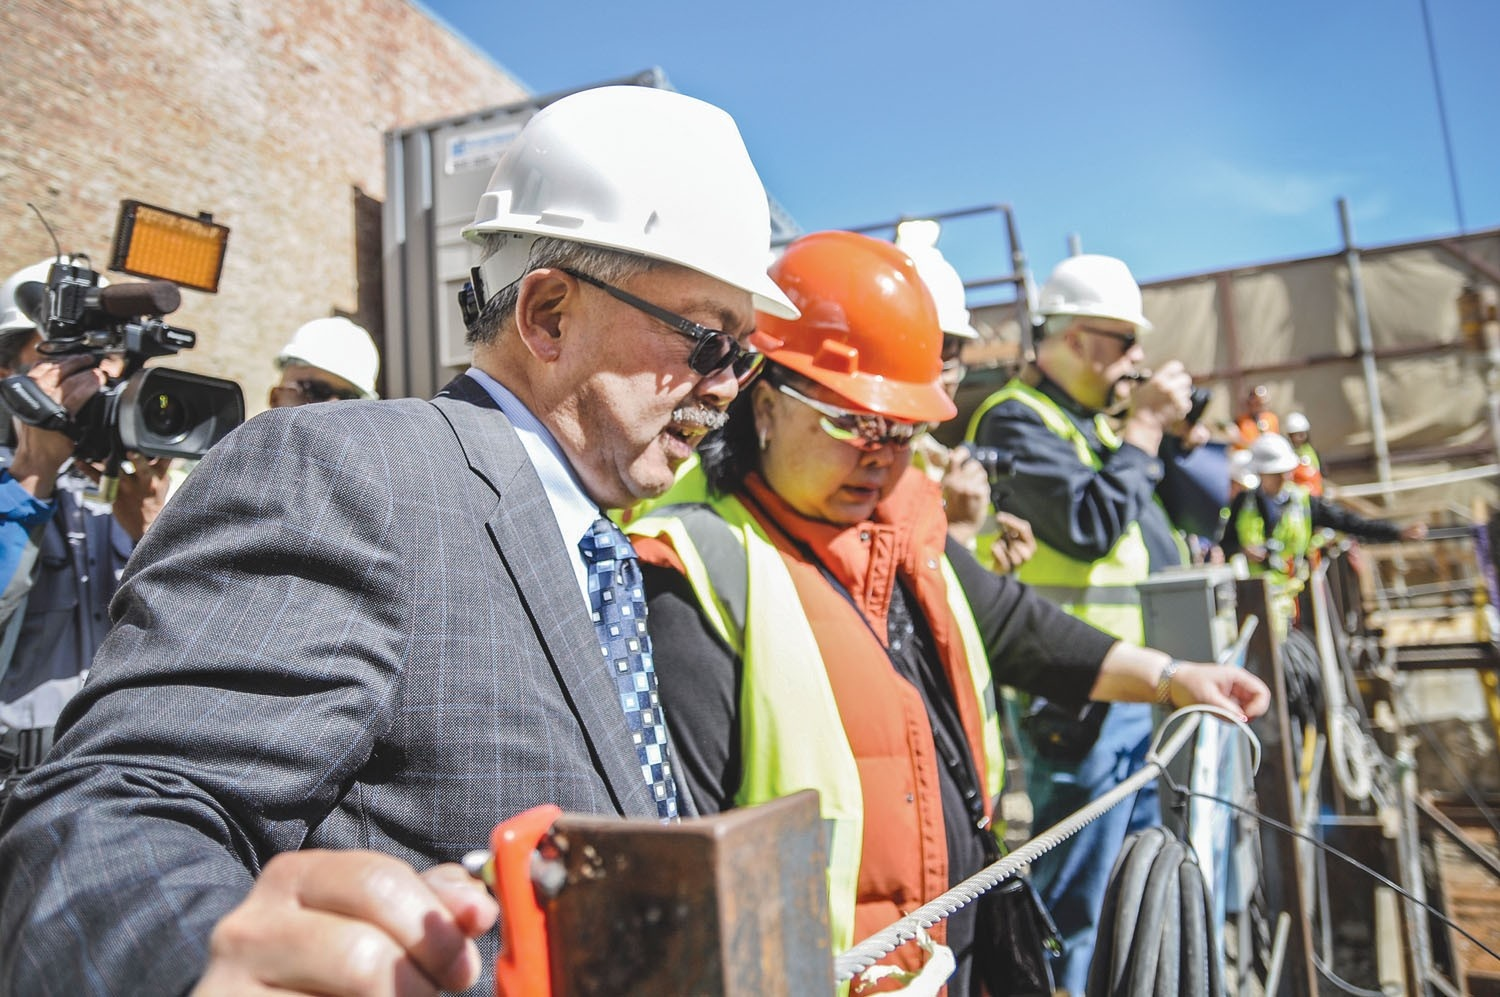white: (458, 77, 762, 498), (1026, 254, 1154, 411), (267, 317, 383, 418)
yellow: (747, 223, 951, 539)
